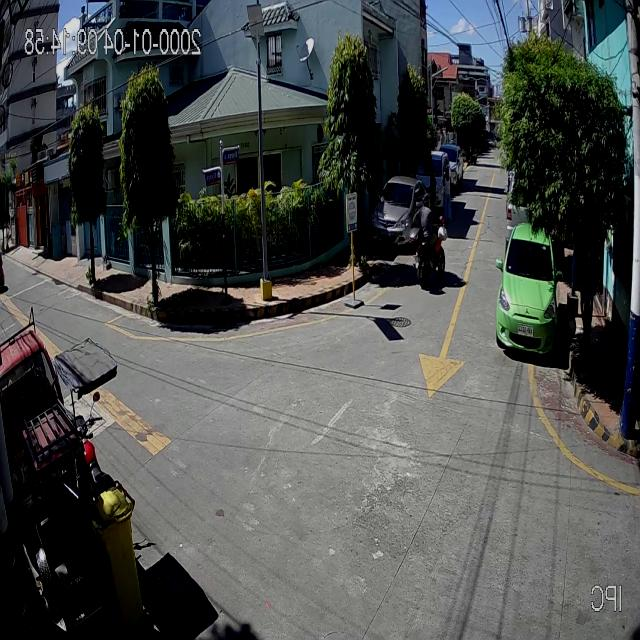standing: (429, 165, 439, 222)
walking: (441, 166, 453, 224)
